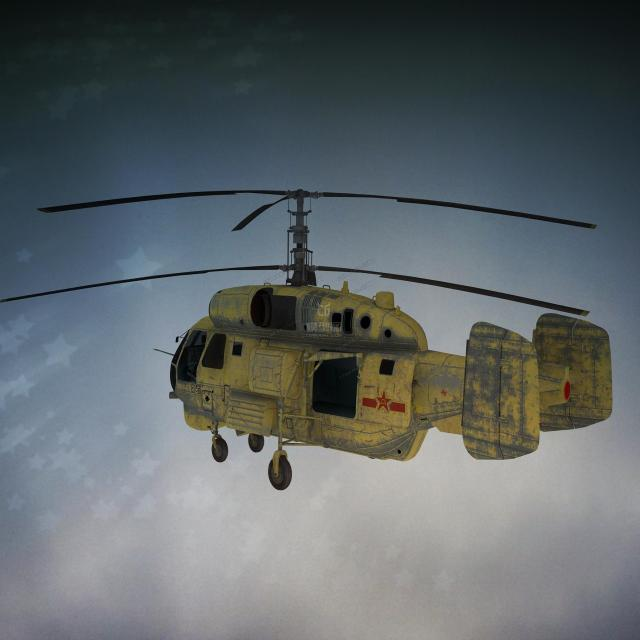MIL_HELO: (4, 176, 626, 509)
